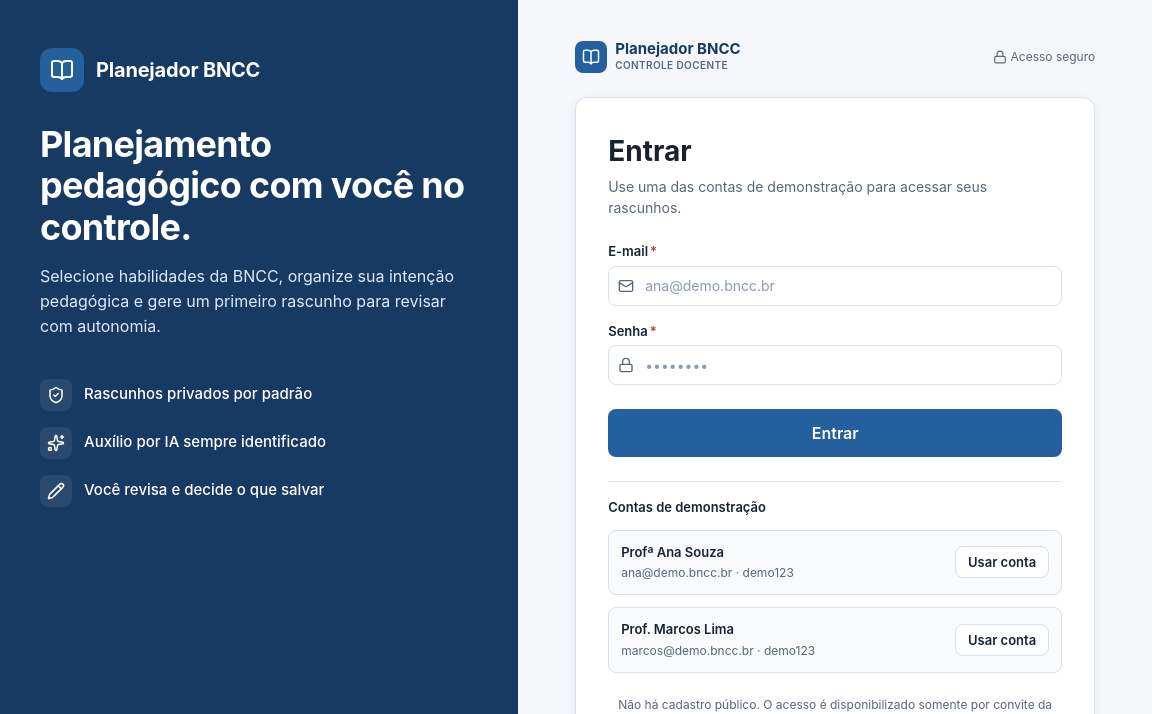
Login Page Component (T042 / US1) › deve preencher credenciais ao clicar no atalho do Prof. Marcos Lima
The width and height of the screenshot is (1152, 714).
Note: Clicar no segundo botão (Marcos Lima)
What coordinates should you click on to do the following:
click the button "Usar conta" next to "marcos@demo.bncc.br · demo123"
I would click on:
 (1002, 640)
Its box is 955,624 -> 1049,656.
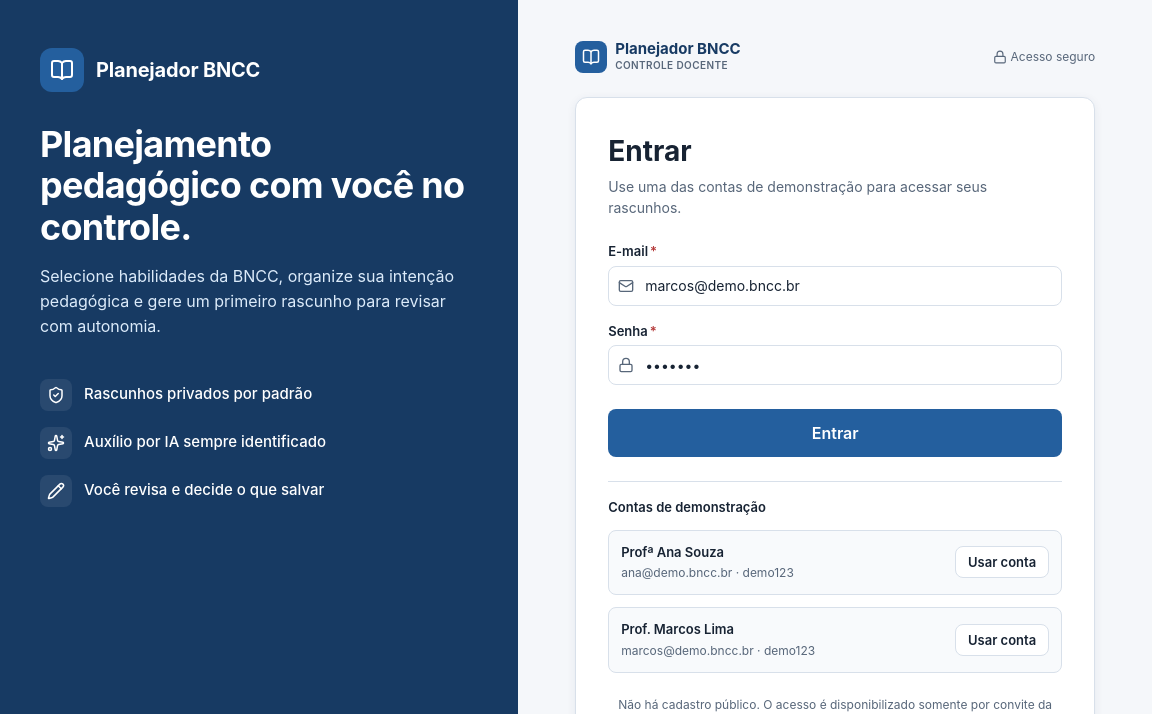
Expected: the field labelled "E-mail*" holds "marcos@demo.bncc.br", 608,266 -> 1062,306
Expected: the password field labelled "Senha*" holds "demo123", 608,345 -> 1062,385
